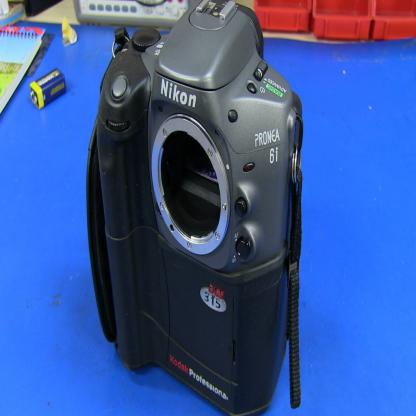Camera: (87, 1, 305, 416)
